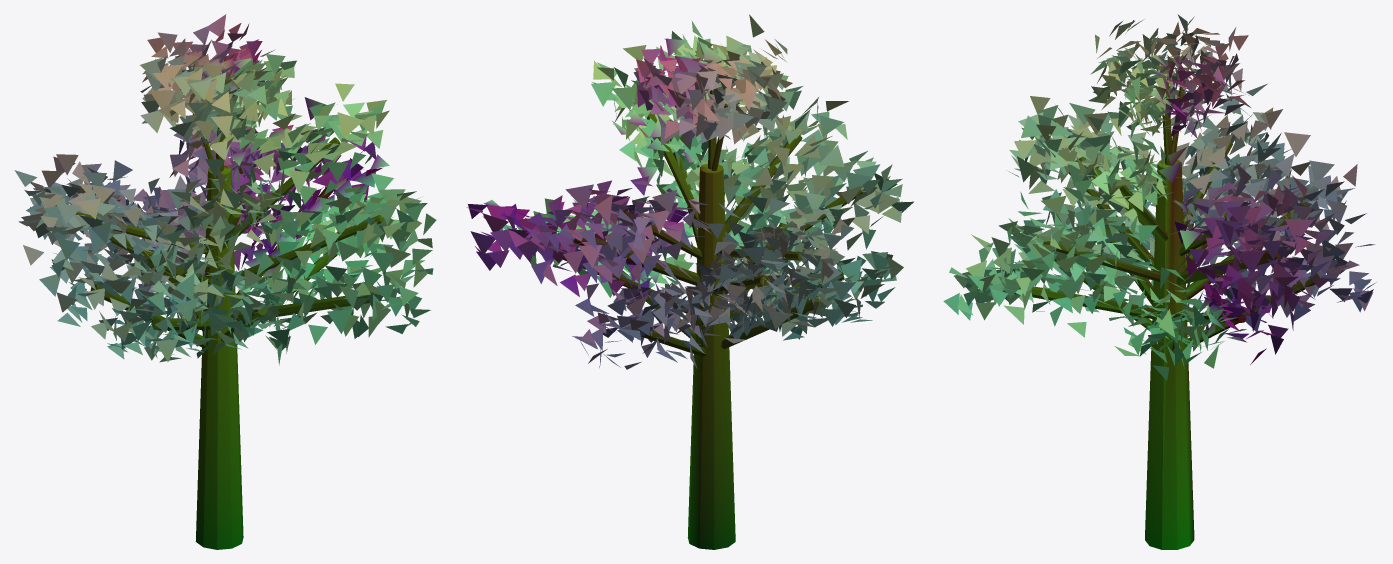
File: old_growth_broadleaf_02.glb
3 views of the same model, side by side, from view 1: azimuth 30°, elevation 25°; view 2: azimuth 150°, elevation 25°; view 3: azimuth 270°, elevation 25° (orthographic).
Parts seen in each view (by area): view 1: old_growth_broadleaf_02; view 2: old_growth_broadleaf_02; view 3: old_growth_broadleaf_02.
Part boxes in pixels (x1,y1,x2,y2): old_growth_broadleaf_02: [14, 14, 436, 549]; old_growth_broadleaf_02: [466, 14, 913, 549]; old_growth_broadleaf_02: [943, 14, 1376, 549].
Size of the model in its own units: 16.75 by 21.65 by 16.9.
